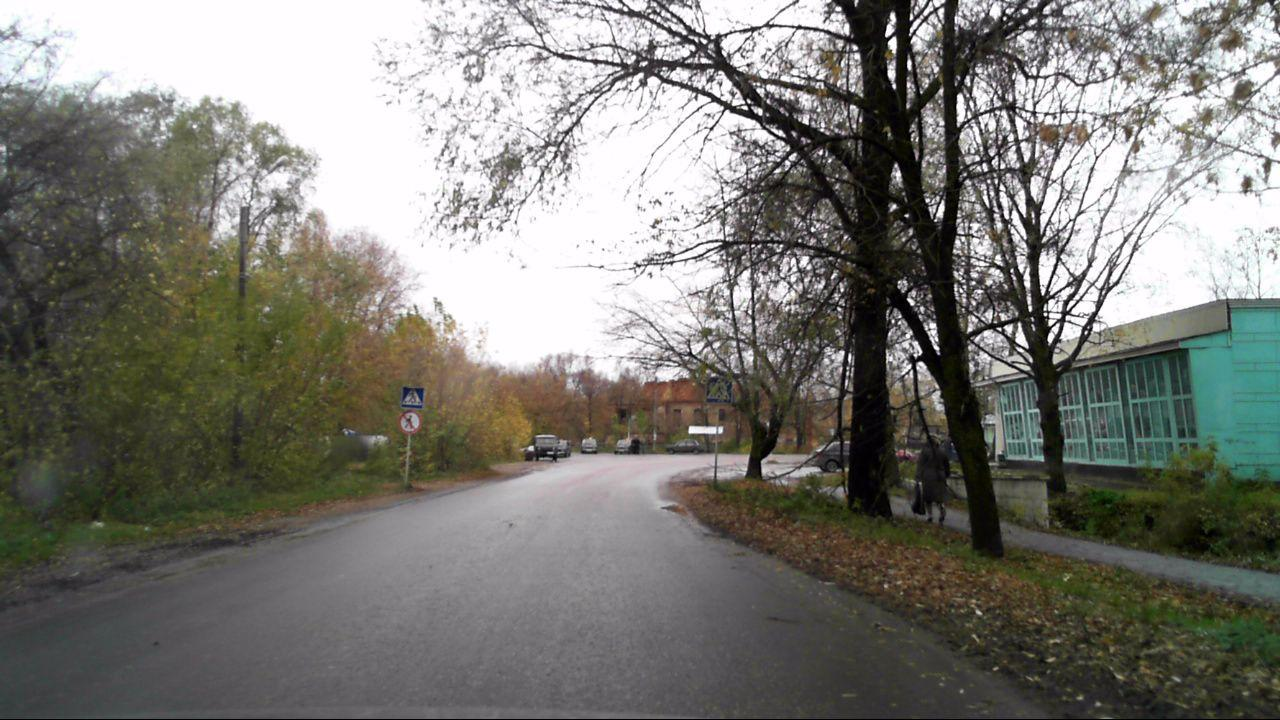3_10: (398, 411, 422, 434)
5_19_1: (705, 375, 733, 402)
5_19_2: (402, 385, 424, 408)
